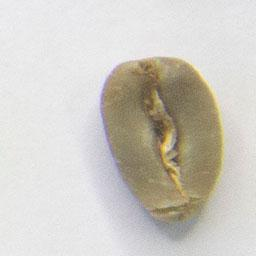longberry: (95, 52, 229, 226)
